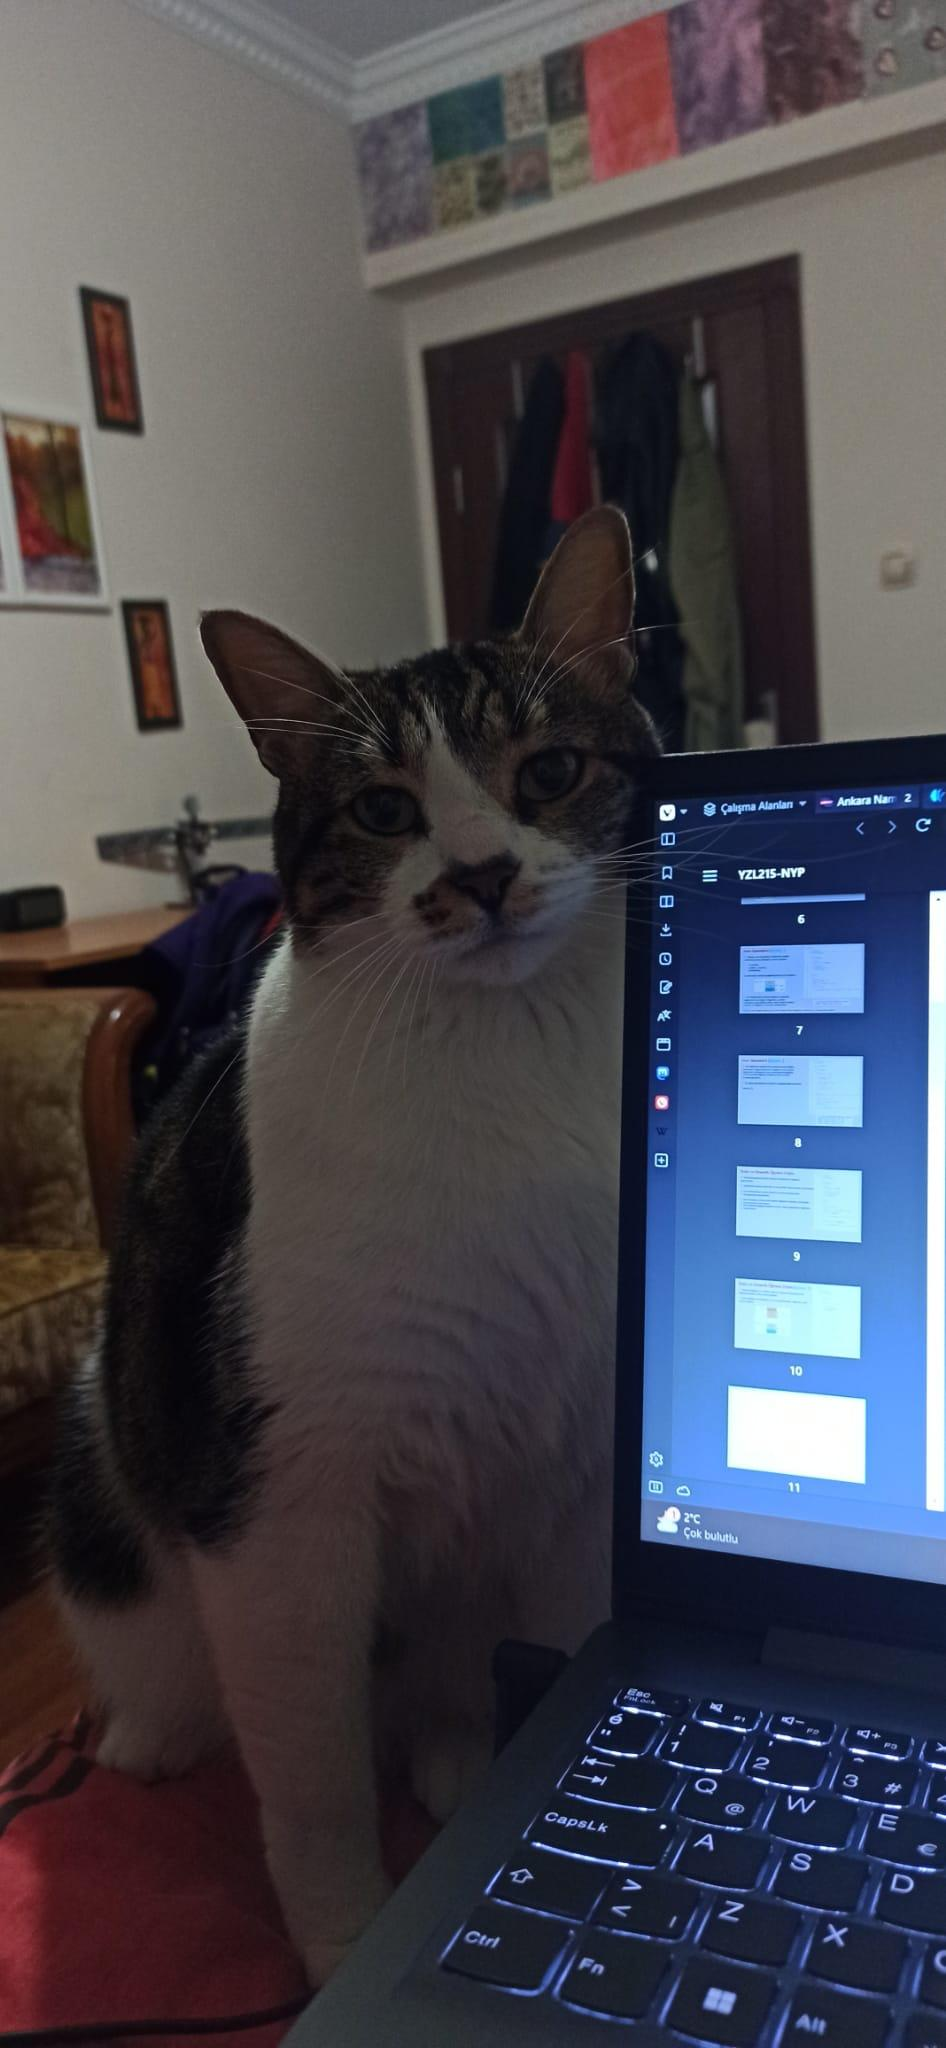kedo: (47, 487, 642, 1974)
